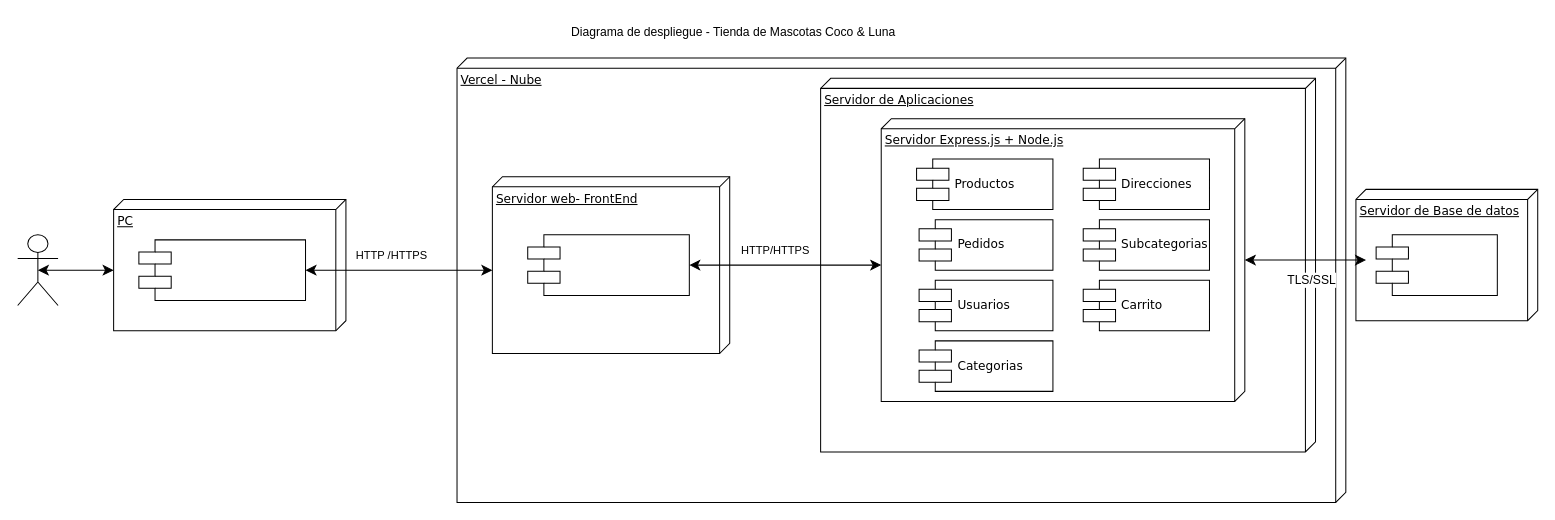
This 1555x520 diagram has some shape labels left out. The shapes that lost their labels are listed below. From the top down, each one's centre as x and y in pixels, then its label:
(x=37, y=270): Usuario
(x=222, y=269): Navergador web
(x=608, y=264): FrontEnt - React.js
(x=1436, y=264): MongoDB Atlas
